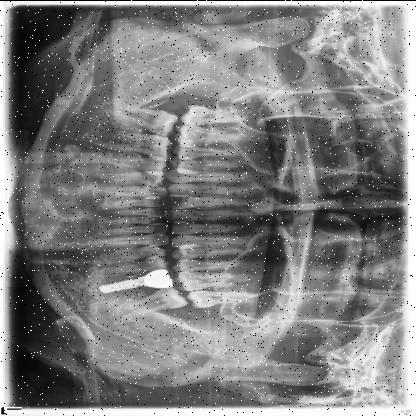ITI: (93, 275, 150, 296)
